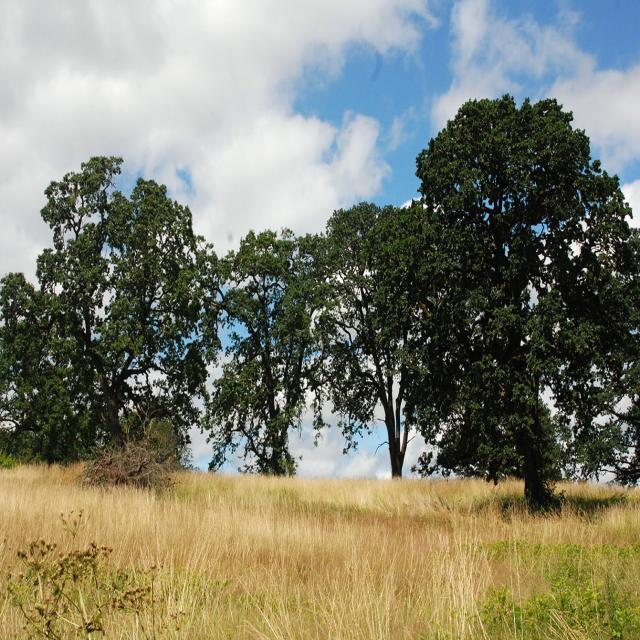Quercus garryana: (407, 91, 640, 506), (1, 154, 220, 480), (219, 230, 347, 479), (336, 203, 434, 481)
